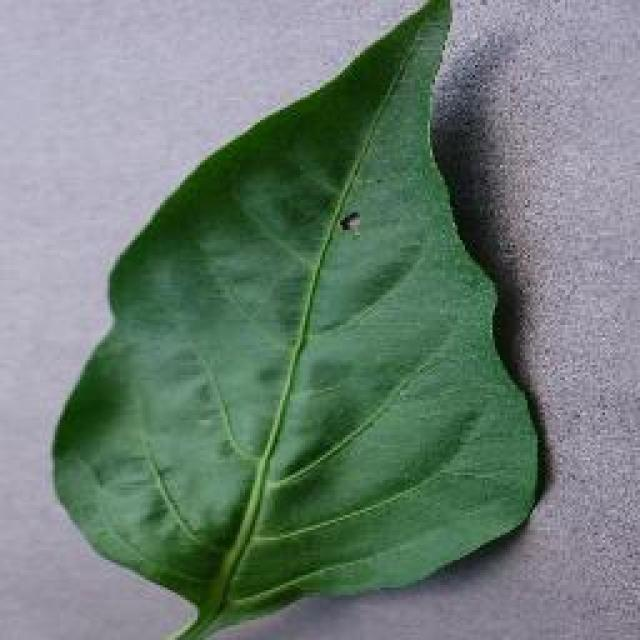Chilli_Healthy: (48, 0, 542, 638)
